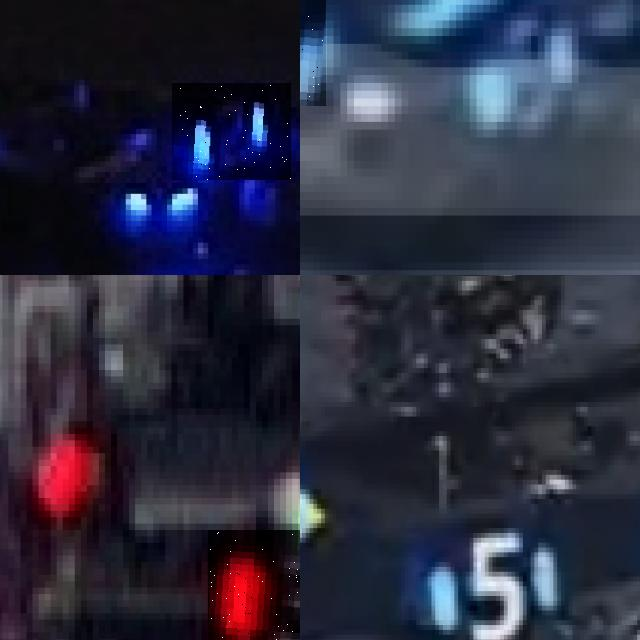B2: (172, 83, 291, 180)
B5: (463, 21, 585, 138), (417, 533, 572, 625)
R3: (207, 530, 300, 640)
